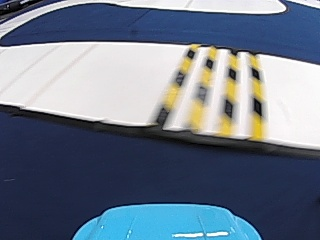bump: (150, 46, 267, 135)
